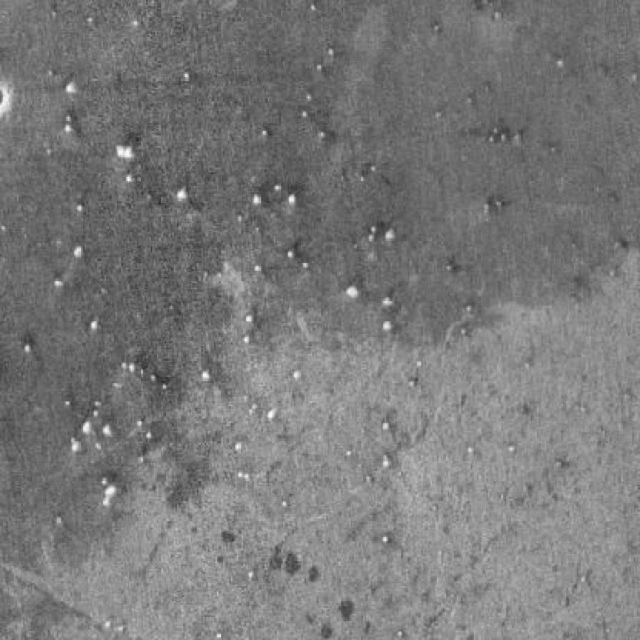crater: (345, 282, 361, 298)
